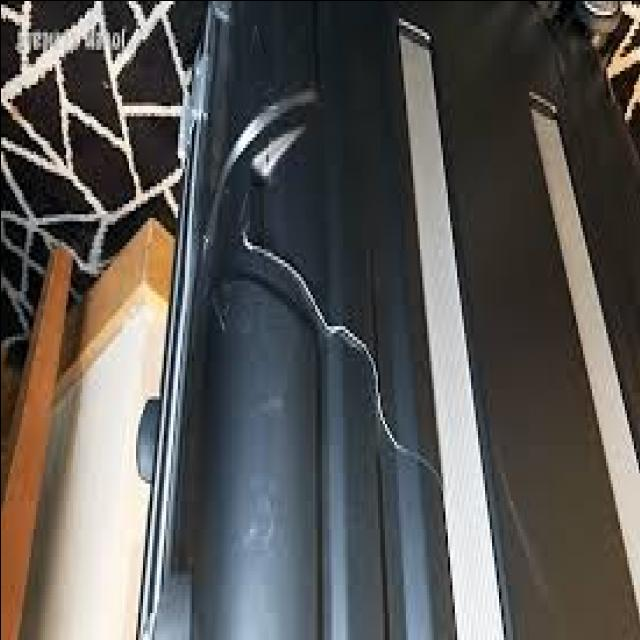Damage-bag: (241, 230, 439, 478)
